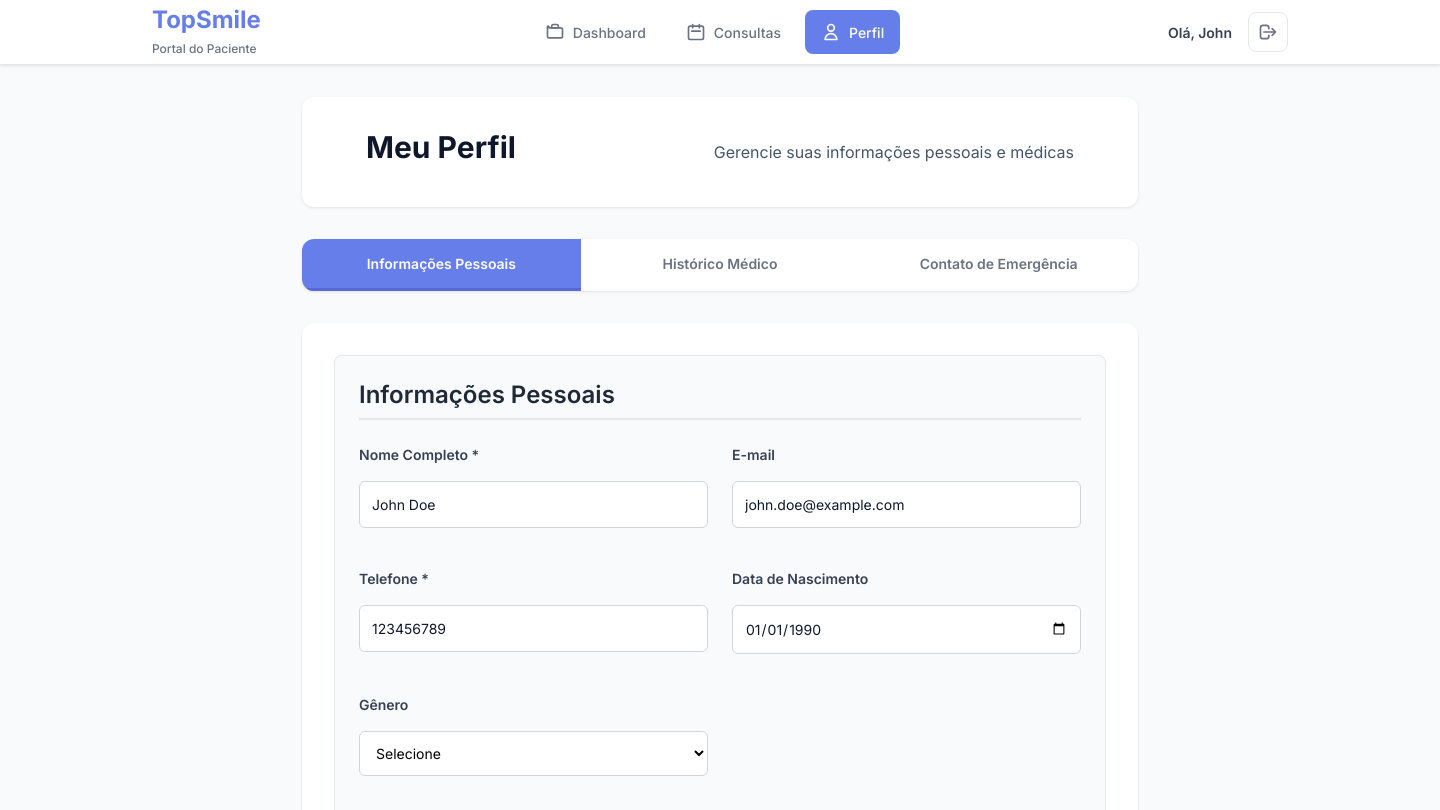
Test case: PatientProfile › updates personal information
This screenshot has width=1440, height=810.
Replace the text in the field labelled "Nome Completo *" with "Jane Doe" at (534, 504), box [359,480,708,528]
(page scrolled)
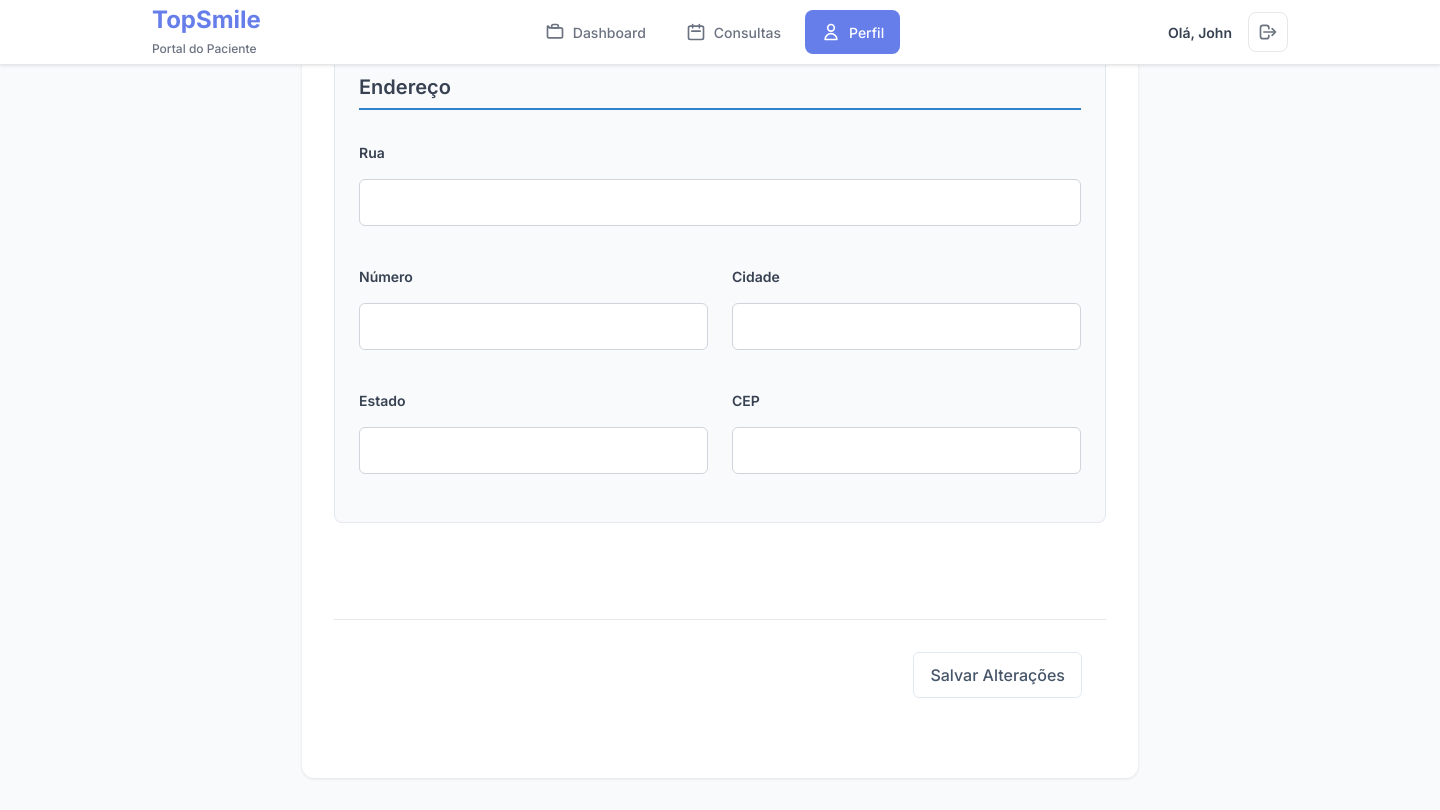
Click the button "Salvar Alterações" at (998, 674), box [913,652,1082,698]
(page scrolled)
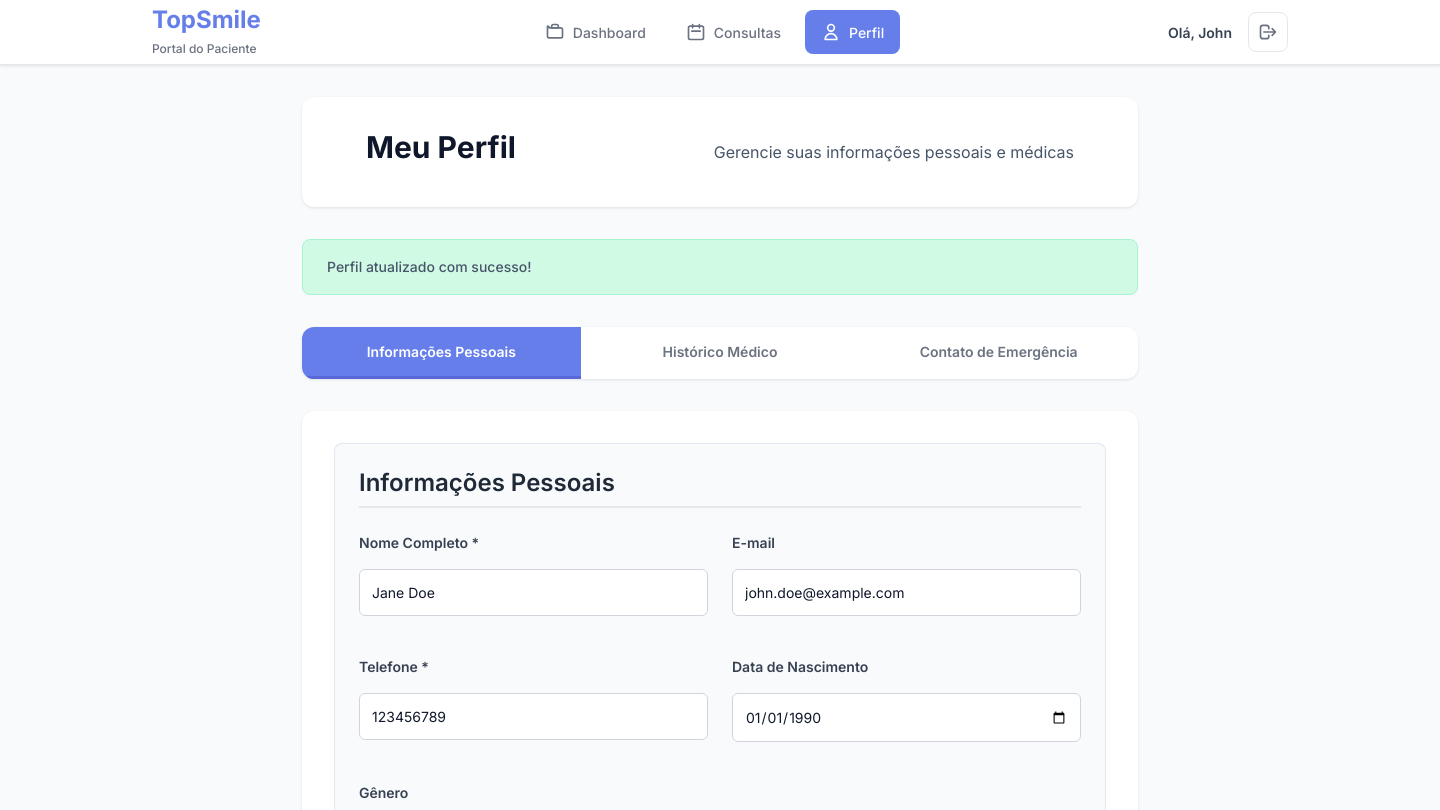
Expected: the text "Perfil atualizado com sucesso!" is shown, [327,258,531,274]
